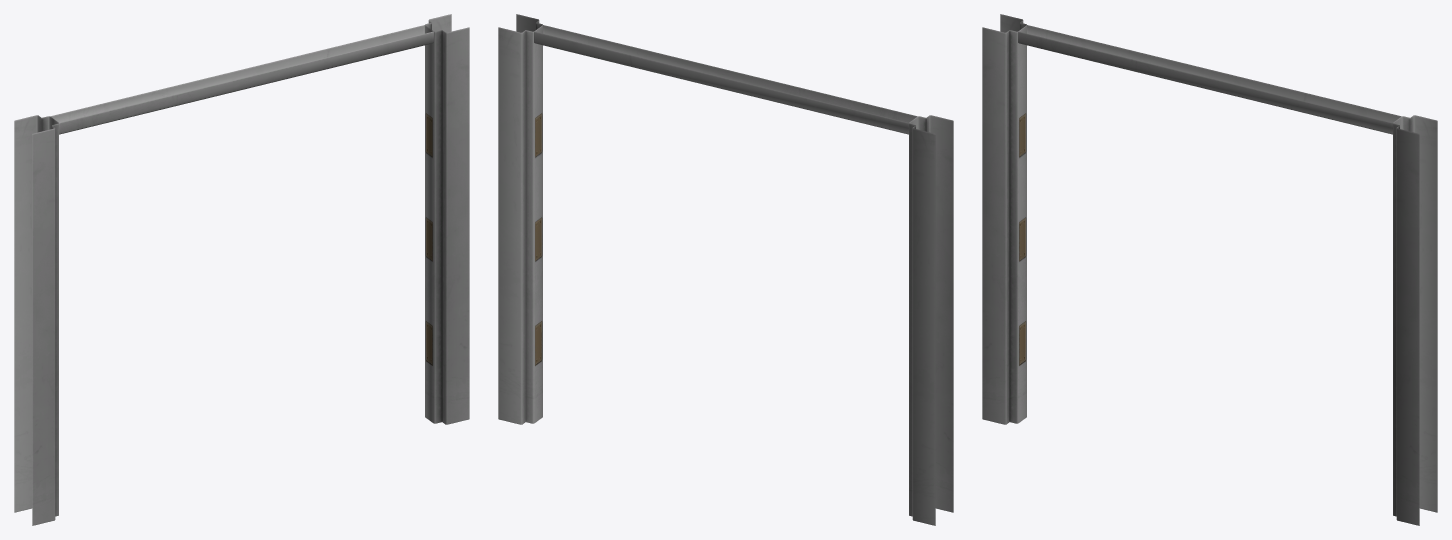
The model's file is swingdoor_hospital_frame.dae.
The picture shows the model from 3 angles, left to right: view 1: azimuth 30°, elevation 25°; view 2: azimuth 150°, elevation 25°; view 3: azimuth 330°, elevation 25°; orthographic projection.
Parts seen in each view (by area): view 1: frame__2_; view 2: frame__2_; view 3: frame__2_.
Boxes of the visible parts, x1=… form: frame__2_: x1=14, y1=14, x2=469, y2=525; frame__2_: x1=498, y1=14, x2=953, y2=525; frame__2_: x1=982, y1=14, x2=1437, y2=525.
Bounding box in the file's own units: 3.5 × 3 × 0.25.
